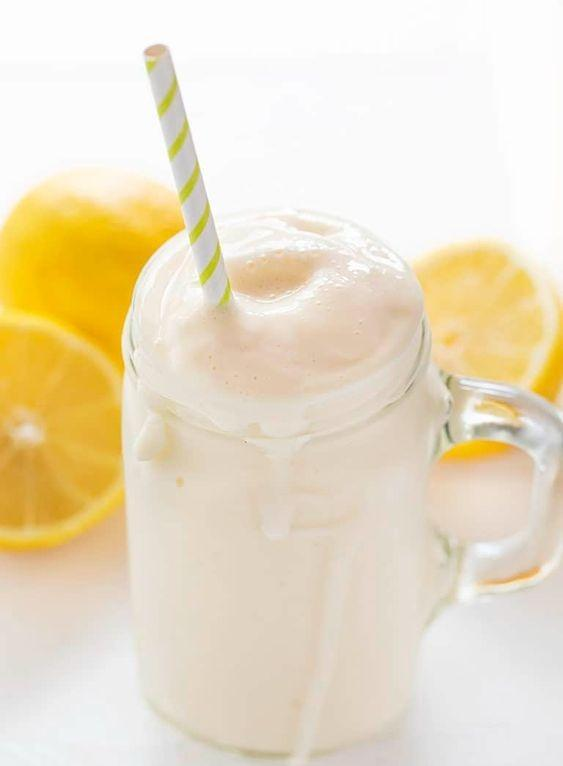glass-mug: (104, 190, 563, 766)
